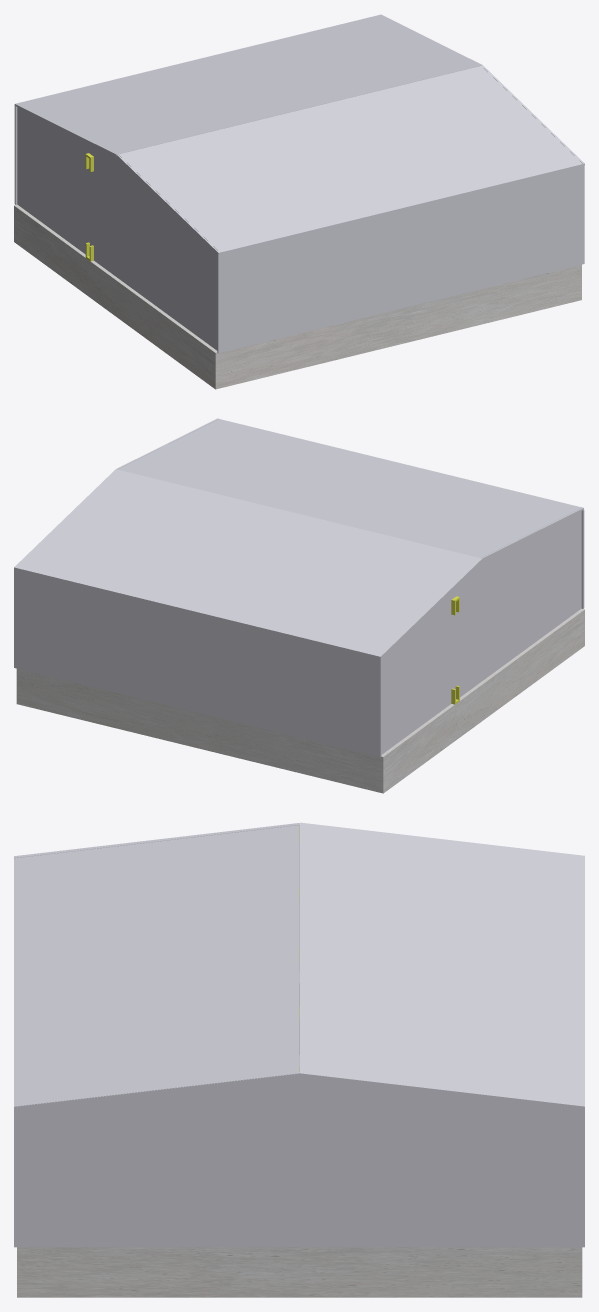
File: clean-room.gltf
The picture shows the model from 3 angles, top to bottom: view 1: azimuth 30°, elevation 25°; view 2: azimuth 150°, elevation 25°; view 3: azimuth 270°, elevation 25°; orthographic projection. The views are drawn at different scales.
Visible parts, largest first — view 1: force field; view 2: force field; view 3: force field.
Part boxes in pixels (left/top/right/bottom): force field: left=14, top=14, right=584, bottom=389; force field: left=14, top=418, right=584, bottom=793; force field: left=14, top=822, right=584, bottom=1297.
Size of the model in its own units: 21.11 by 8.8 by 20.2.
7 materials, 1 textured.
